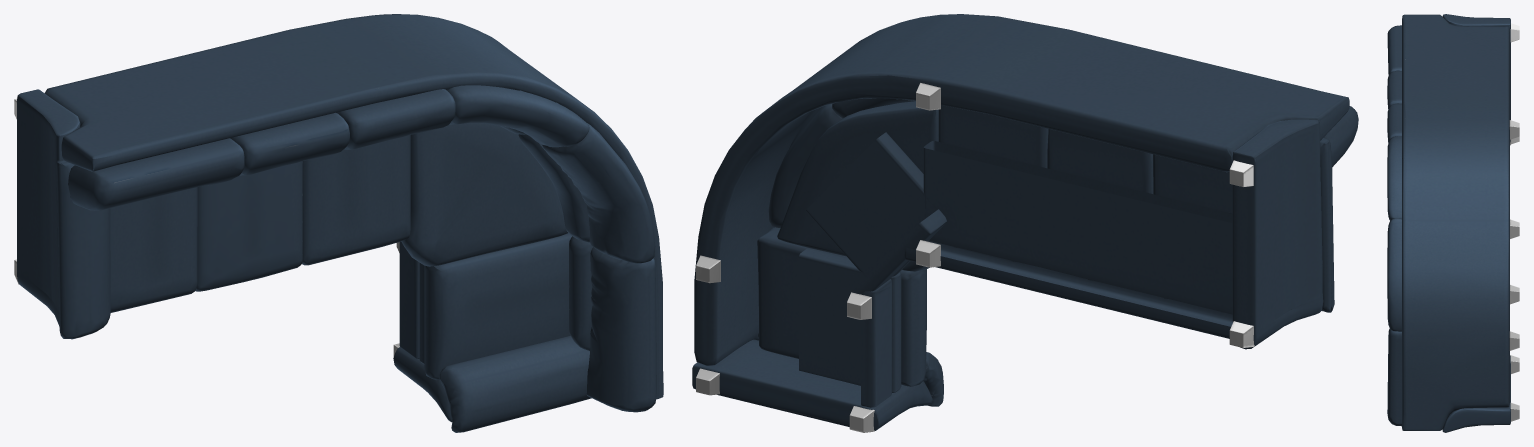
File: raw_model.glb
3 renders of one model, left to right at view 1: azimuth 30°, elevation 25°; view 2: azimuth 150°, elevation 25°; view 3: azimuth 270°, elevation 25°, orthographic. The views are drawn at different scales.
Visible parts, largest first — view 1: raw_model.046; view 2: raw_model.046; view 3: raw_model.046.
Boxes of the visible parts, x1,y1,x2,y2 form: raw_model.046: (14,14,663,432); raw_model.046: (692,14,1358,432); raw_model.046: (1387,14,1519,432).
Bounding box in the file's own units: 2.92 × 1.86 × 0.9109.
Materials: 1 (1 with a texture image).
